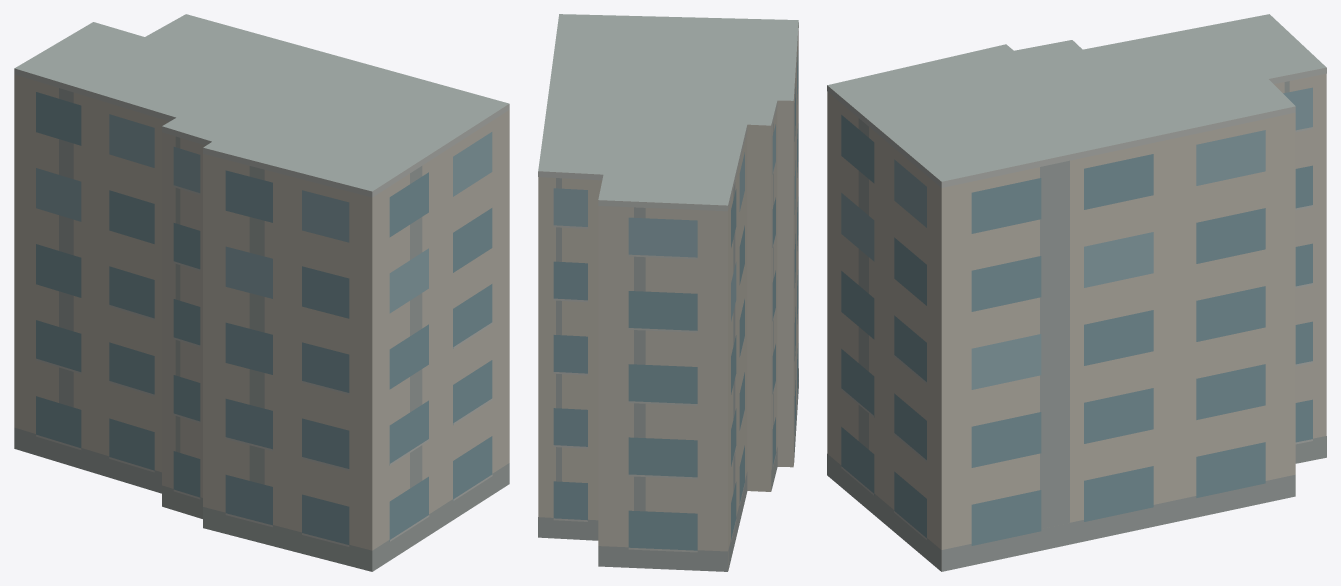
The model's file is survey-upis-32806164.glb.
The picture shows the model from 3 angles, left to right: view 1: azimuth 30°, elevation 25°; view 2: azimuth 150°, elevation 25°; view 3: azimuth 270°, elevation 25°; orthographic projection. The views are drawn at different scales.
Parts seen in each view (by area): view 1: survey-upis-32806164.tmp; view 2: survey-upis-32806164.tmp; view 3: survey-upis-32806164.tmp.
Boxes of the visible parts, bbox=[...] form: survey-upis-32806164.tmp: bbox=[14, 14, 509, 571]; survey-upis-32806164.tmp: bbox=[538, 14, 798, 571]; survey-upis-32806164.tmp: bbox=[827, 14, 1326, 571].
Bounding box in the file's own units: 14.17 × 15.35 × 17.83.
